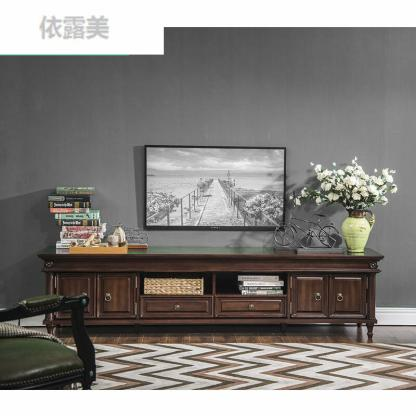Carpet: (91, 343, 416, 391)
TV stand: (43, 243, 380, 342)
